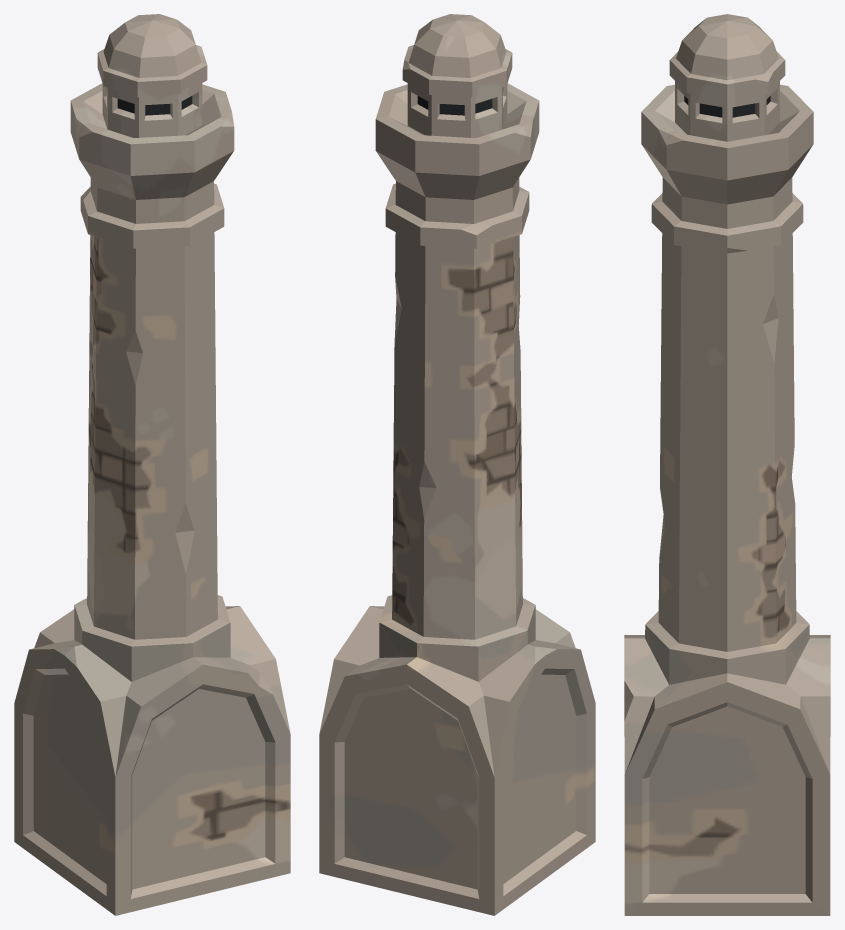
File: SM_Bld_Village_Chimney_01.glb
3 renders of one model, left to right at view 1: azimuth 30°, elevation 25°; view 2: azimuth 150°, elevation 25°; view 3: azimuth 270°, elevation 25°, orthographic.
Parts seen in each view (by area): view 1: SM_Bld_Village_Chimney_01; view 2: SM_Bld_Village_Chimney_01; view 3: SM_Bld_Village_Chimney_01.
Boxes of the visible parts, x1,y1,x2,y2 form: SM_Bld_Village_Chimney_01: (14, 14, 290, 915); SM_Bld_Village_Chimney_01: (319, 14, 595, 915); SM_Bld_Village_Chimney_01: (624, 14, 830, 915).
Size of the model in its own units: 1.71 by 7.8 by 1.71.
1 material, 1 textured.
